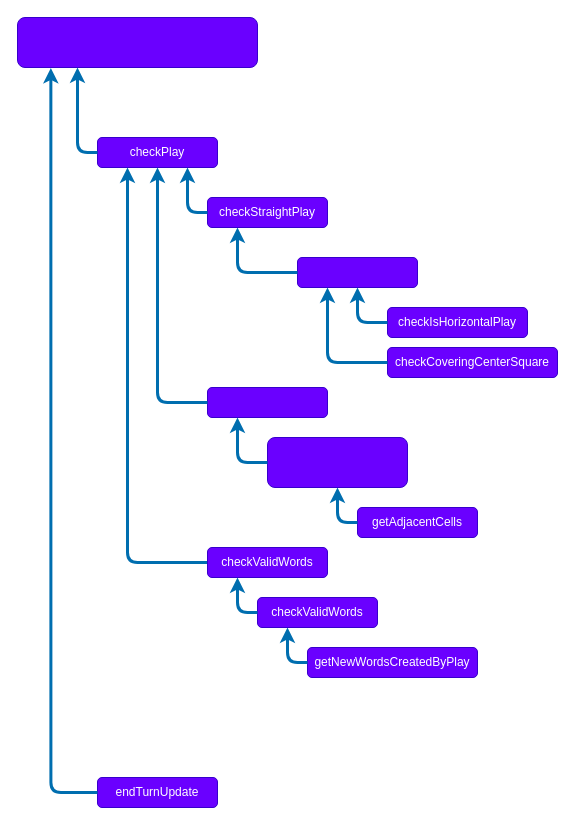
Image size: 575x825. Some labels were removed from this diagram. The shapes that lost their labels are listed below. From the top down, each one's centre as x and y in pixels, then its label:
[137,42]: submitPlay
[357,272]: checkFirstPlay
[267,402]: checkConnected
[337,462]: adjacent cells include at least one previously placed letter
